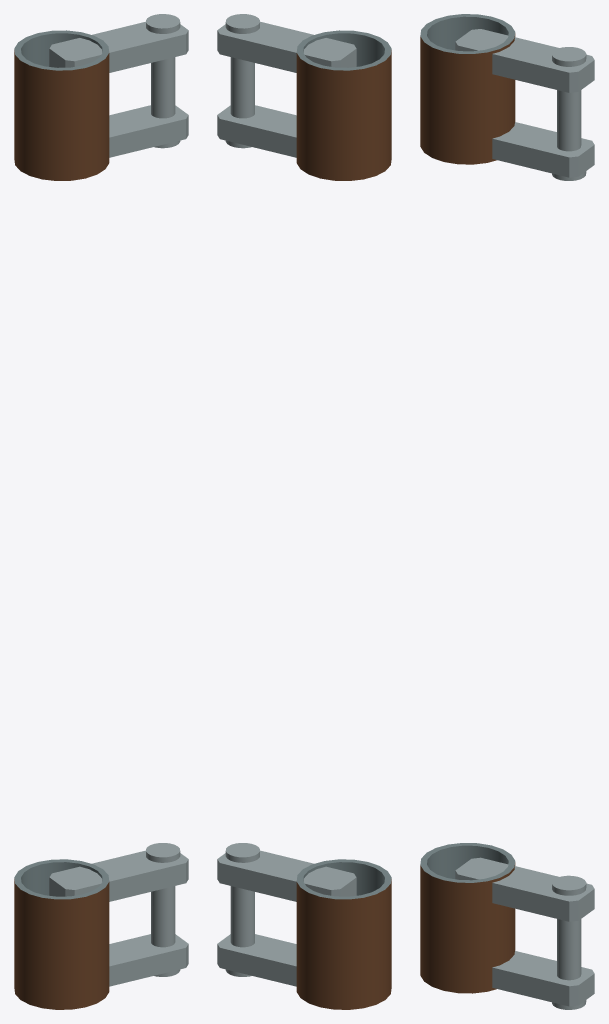
Rendered from city_barriers_07_mount.glb.
The picture shows the model from 3 angles, left to right: view 1: azimuth 30°, elevation 25°; view 2: azimuth 150°, elevation 25°; view 3: azimuth 330°, elevation 25°; orthographic projection.
Parts seen in each view (by area): view 1: CityBarriers07_Mount_Mesh; view 2: CityBarriers07_Mount_Mesh; view 3: CityBarriers07_Mount_Mesh.
Part boxes in pixels (box(x1,y1,x2,y2)): CityBarriers07_Mount_Mesh: box(14, 14, 188, 1009); CityBarriers07_Mount_Mesh: box(217, 14, 391, 1009); CityBarriers07_Mount_Mesh: box(420, 14, 594, 1009).
Size of the model in its own units: 0.182 by 1.03 by 0.094.
